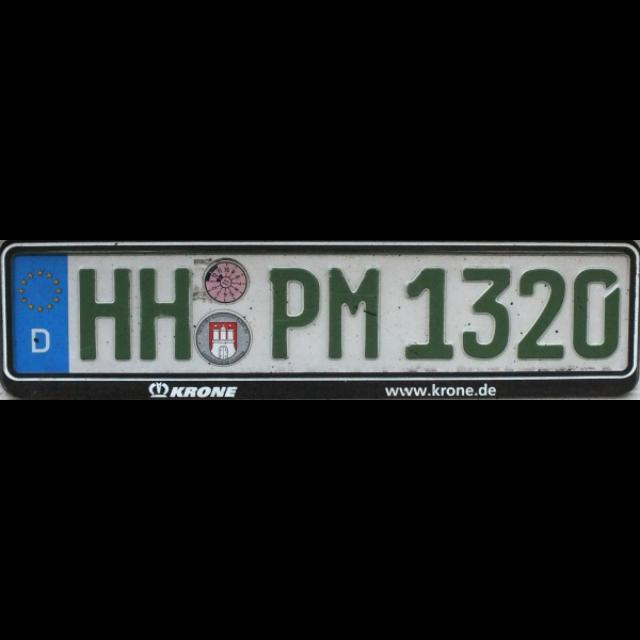license-plates: (0, 243, 640, 397)
